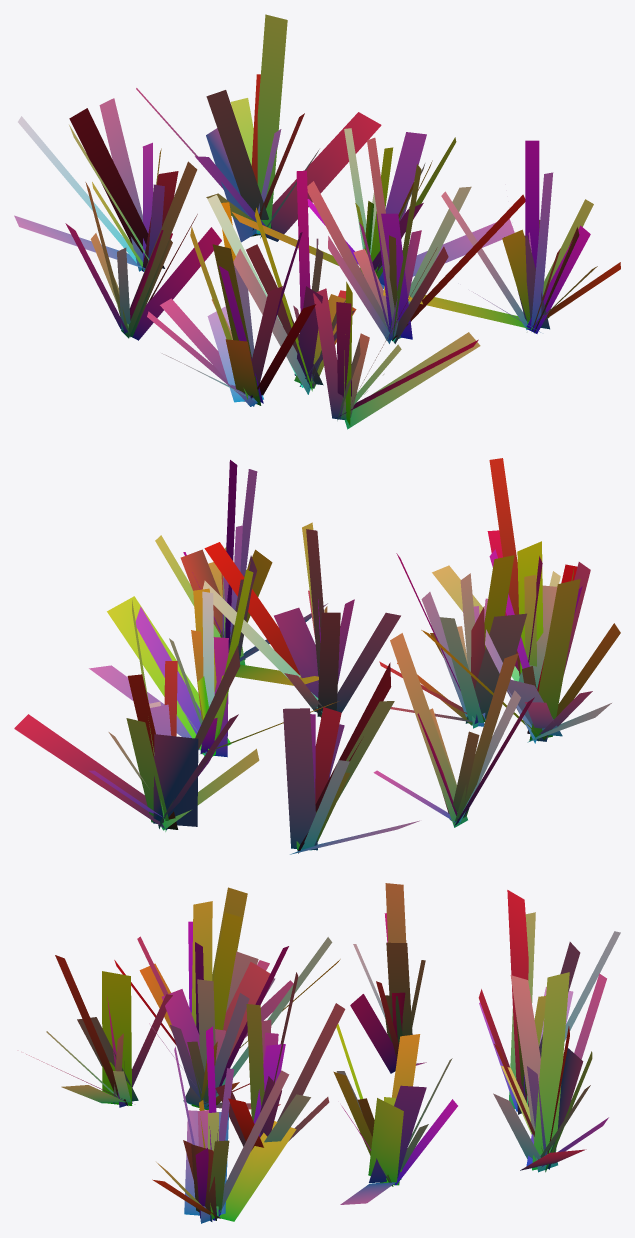
The model's file is Grass_Clumps_qmBr2_Low_qmBr2_VarC_LOD1.fbx.
3 views of the same model, one above another, from view 1: azimuth 30°, elevation 25°; view 2: azimuth 150°, elevation 25°; view 3: azimuth 270°, elevation 25° (orthographic). The views are drawn at different scales.
Parts seen in each view (by area): view 1: _e943_VarC_LOD2; view 2: _e943_VarC_LOD2; view 3: _e943_VarC_LOD2.
Part boxes in pixels (box(x1,y1,x2,y2)): _e943_VarC_LOD2: box(14, 14, 620, 429); _e943_VarC_LOD2: box(14, 458, 620, 854); _e943_VarC_LOD2: box(26, 883, 620, 1223).
Size of the model in its own units: 55.94 by 25.45 by 67.55.
